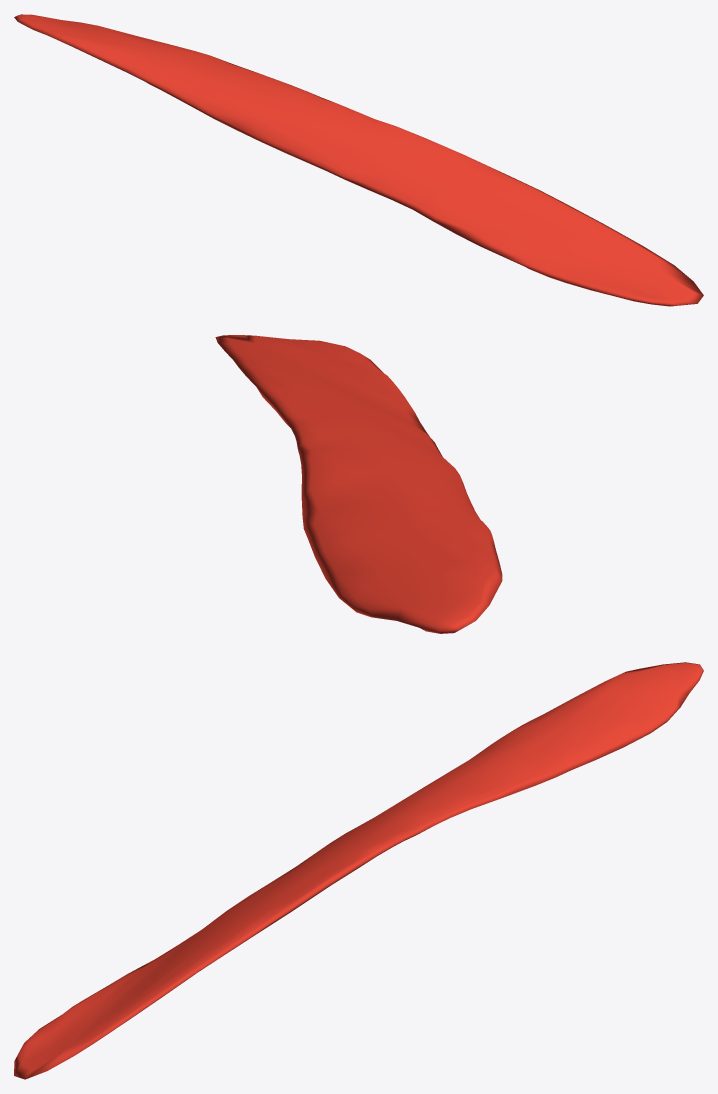
Rendered from Subclavius_muscle-Clavicular_insertion.r_Cone.002.glb.
3 views of the same model, one above another, from view 1: azimuth 30°, elevation 25°; view 2: azimuth 150°, elevation 25°; view 3: azimuth 270°, elevation 25° (orthographic). The views are drawn at different scales.
Parts seen in each view (by area): view 1: Subclavius_muscle-Clavicular_insertion.r_Cone.002; view 2: Subclavius_muscle-Clavicular_insertion.r_Cone.002; view 3: Subclavius_muscle-Clavicular_insertion.r_Cone.002.
Part boxes in pixels (x1,y1,x2,y2): Subclavius_muscle-Clavicular_insertion.r_Cone.002: (14, 14, 703, 306); Subclavius_muscle-Clavicular_insertion.r_Cone.002: (215, 335, 502, 633); Subclavius_muscle-Clavicular_insertion.r_Cone.002: (14, 662, 703, 1079).
Bounding box in the file's own units: 0.0325 × 0.0129 × 0.0416.
